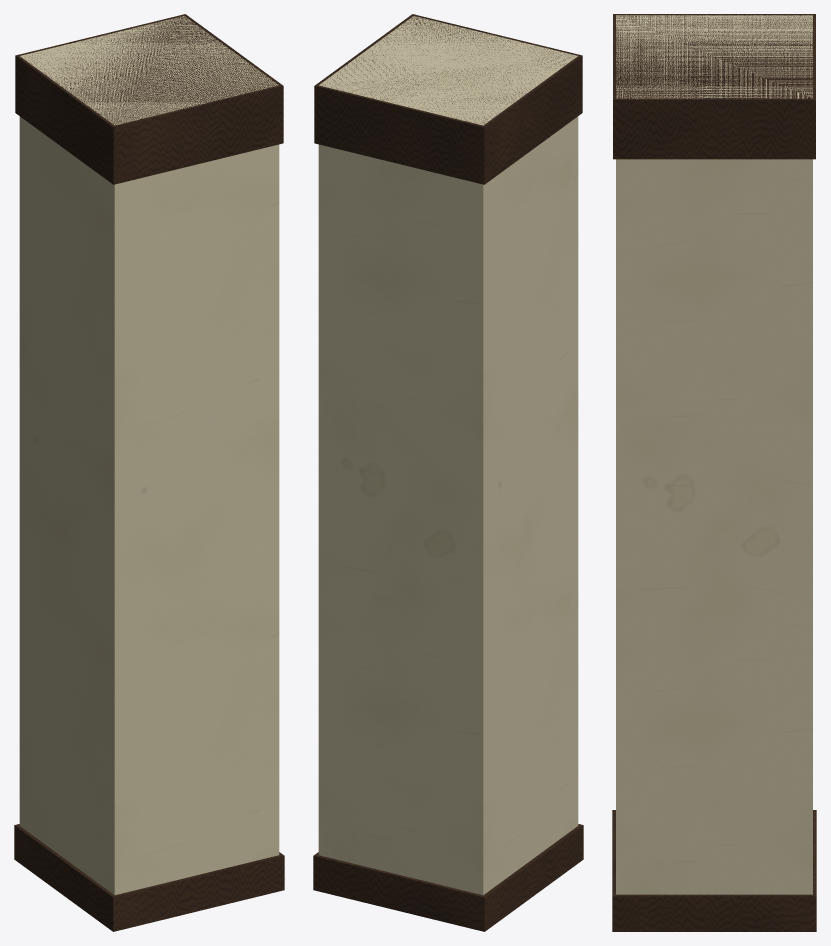
Rendered from Pillar_60.glb.
3 renders of one model, left to right at view 1: azimuth 30°, elevation 25°; view 2: azimuth 150°, elevation 25°; view 3: azimuth 270°, elevation 25°, orthographic. The views are drawn at different scales.
Parts seen in each view (by area): view 1: Pillar_60; view 2: Pillar_60; view 3: Pillar_60.
Boxes of the visible parts, x1,y1,x2,y2 form: Pillar_60: (14, 14, 284, 931); Pillar_60: (313, 14, 583, 931); Pillar_60: (612, 14, 816, 931).
Bounding box in the file's own units: 0.624 × 2.8 × 0.624.
2 materials, 2 textured.
